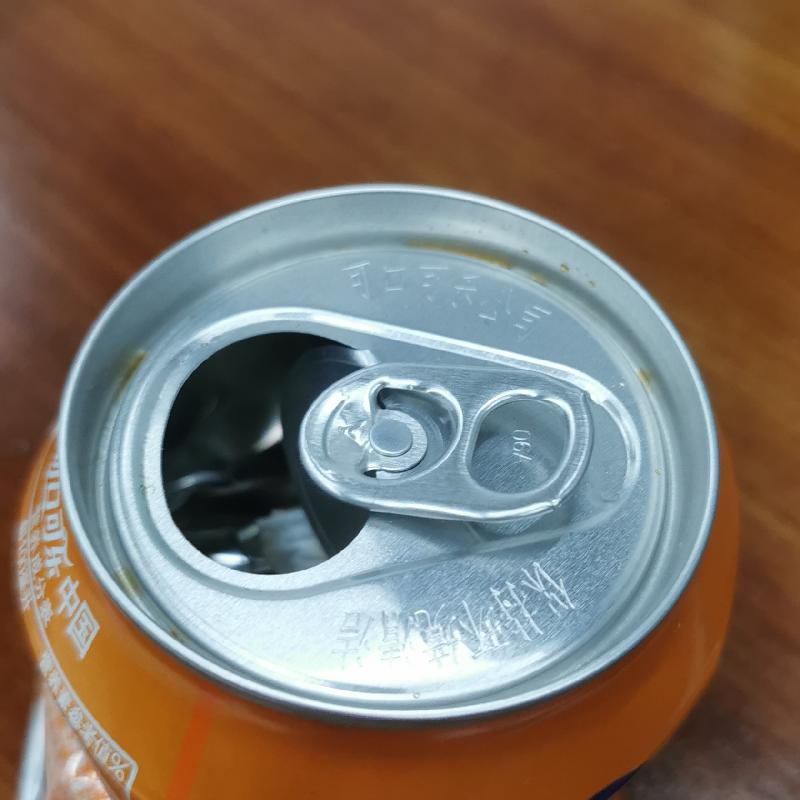cans: (15, 180, 744, 799)
